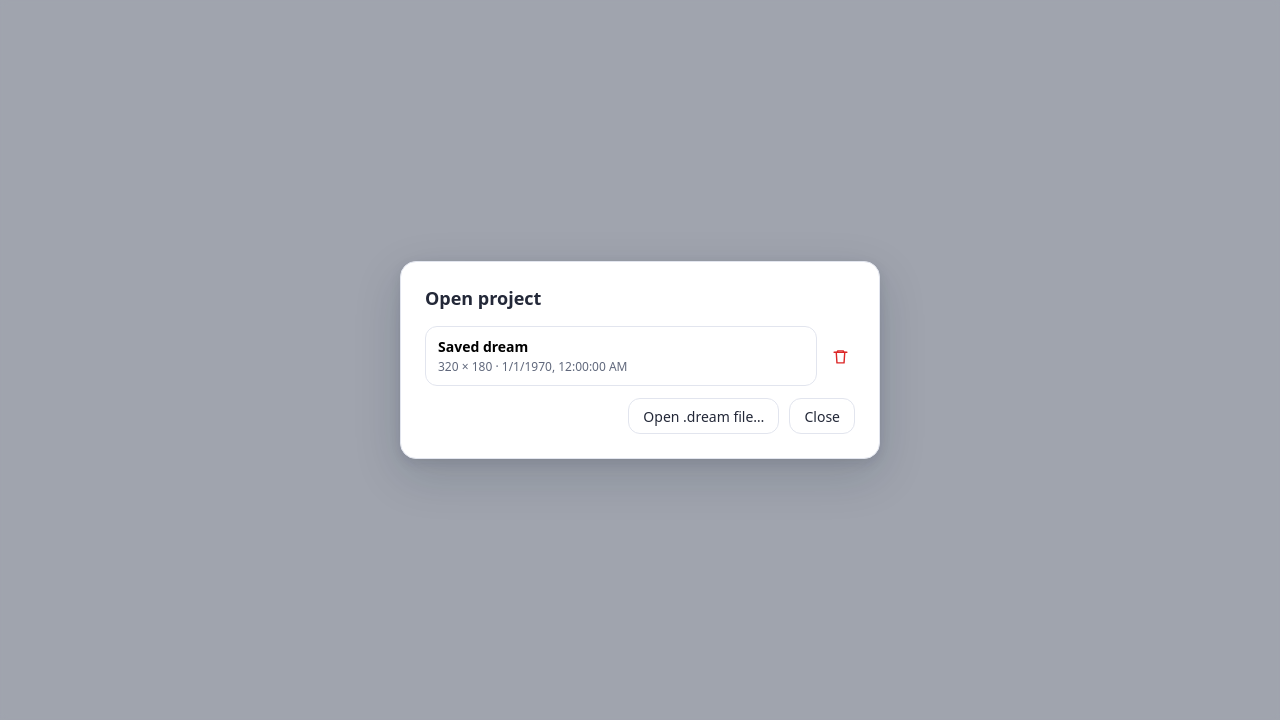
Test: OpenDialog project progress › cancels immediately and ignores a late saved project
The width and height of the screenshot is (1280, 720).
Click the button "Saved dream 320 × 180 · 1/1/1970, 12:00:00 AM".
click(621, 356)  # box x1=425 y1=326 x2=817 y2=386
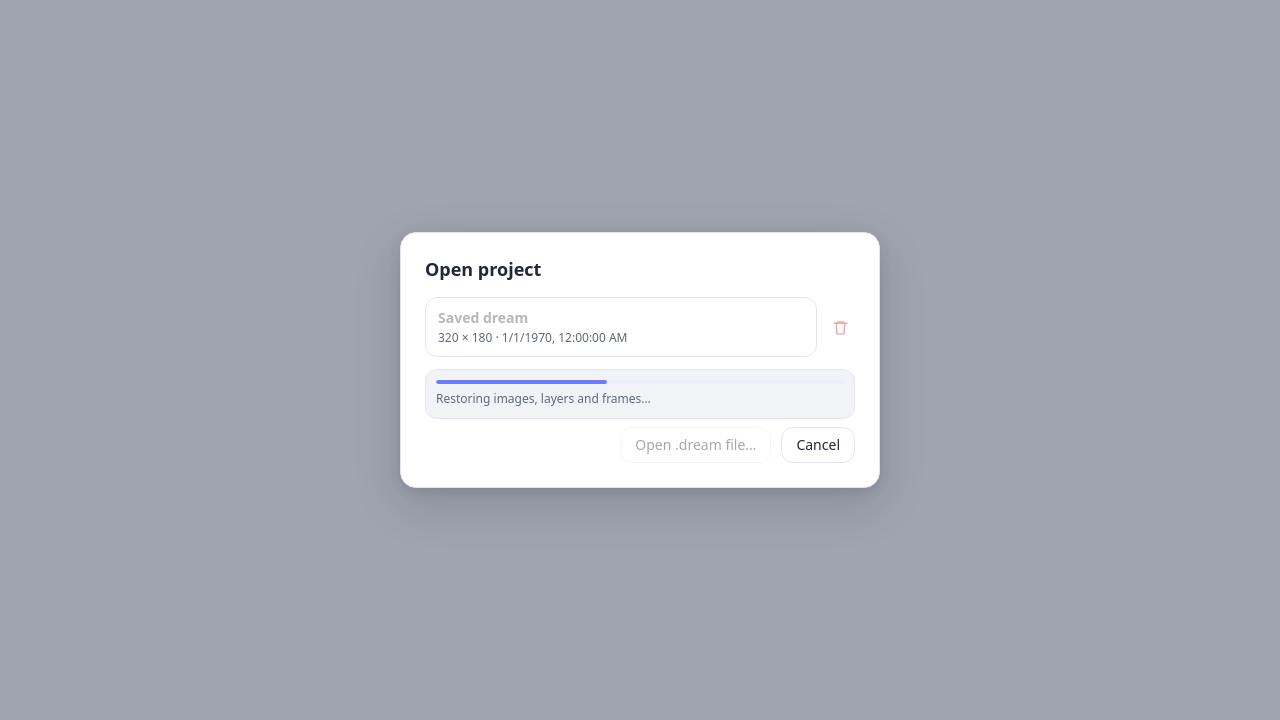
Now the progress indicator named "Restoring images, layers and frames…" is shown, box x1=436 y1=380 x2=844 y2=384
Now the button "Open .dream file…" is disabled, box x1=620 y1=427 x2=771 y2=463
Click the button "Cancel".
click(818, 445)  # box x1=781 y1=427 x2=855 y2=463
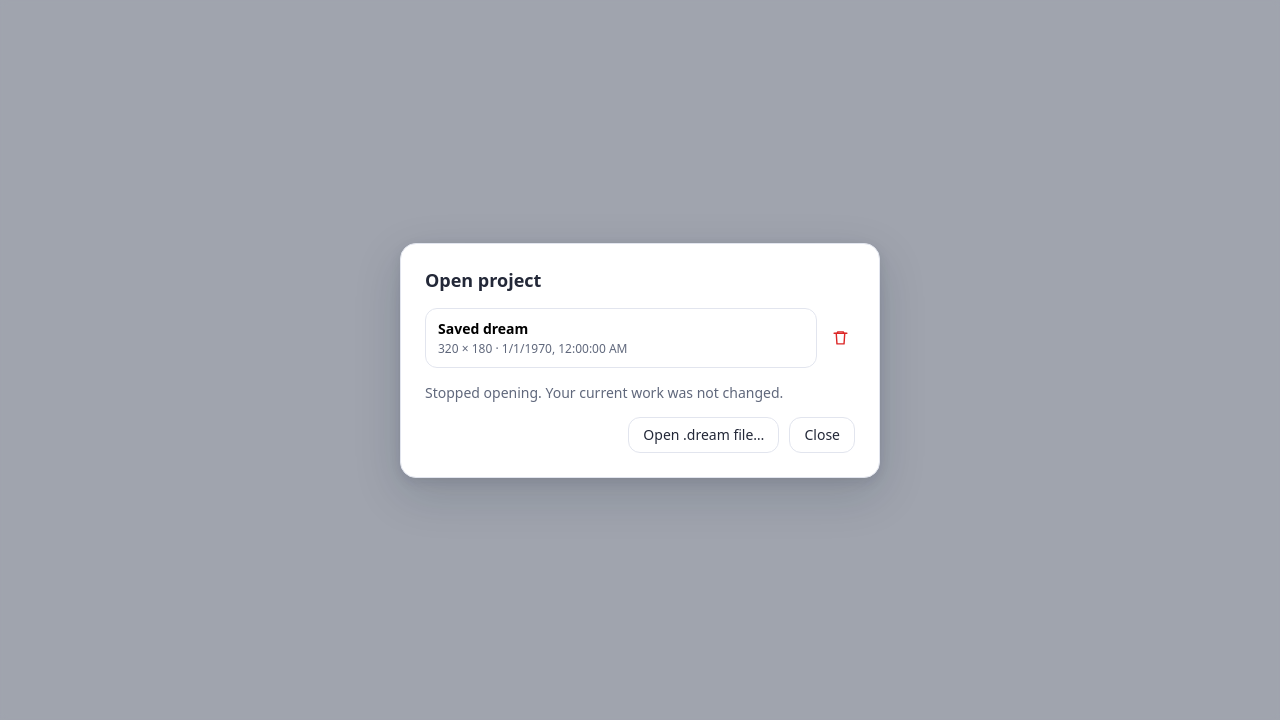
Now the text "Stopped opening. Your current work was not changed." is shown, box x1=425 y1=382 x2=783 y2=402
Now the progress indicator is gone
